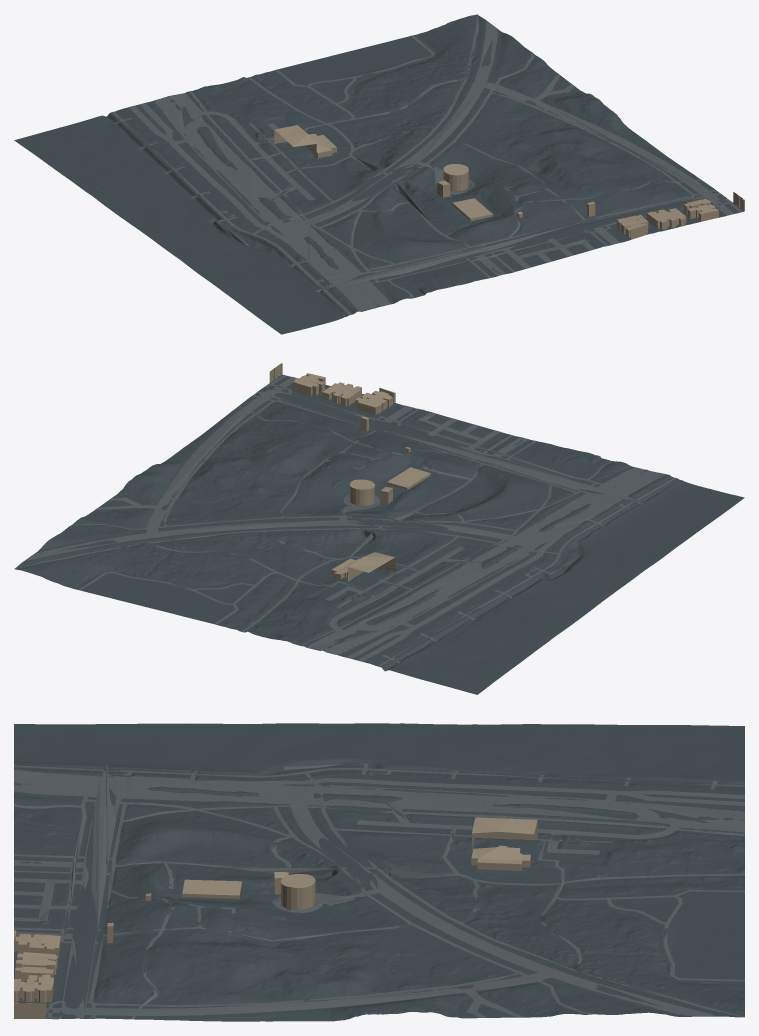
Rendered from epsg26910-1414-10886.lod0.glb.
3 renders of one model, top to bottom at view 1: azimuth 30°, elevation 25°; view 2: azimuth 150°, elevation 25°; view 3: azimuth 270°, elevation 25°, orthographic. The views are drawn at different scales.
Parts seen in each view (by area): view 1: epsg26910-1414-10886-lod0; view 2: epsg26910-1414-10886-lod0; view 3: epsg26910-1414-10886-lod0.
Part boxes in pixels (<box>): epsg26910-1414-10886-lod0: <box>14,14,744,334</box>; epsg26910-1414-10886-lod0: <box>14,363,744,694</box>; epsg26910-1414-10886-lod0: <box>14,723,744,1021</box>.
Size of the model in its own units: 384 by 18.35 by 384.
